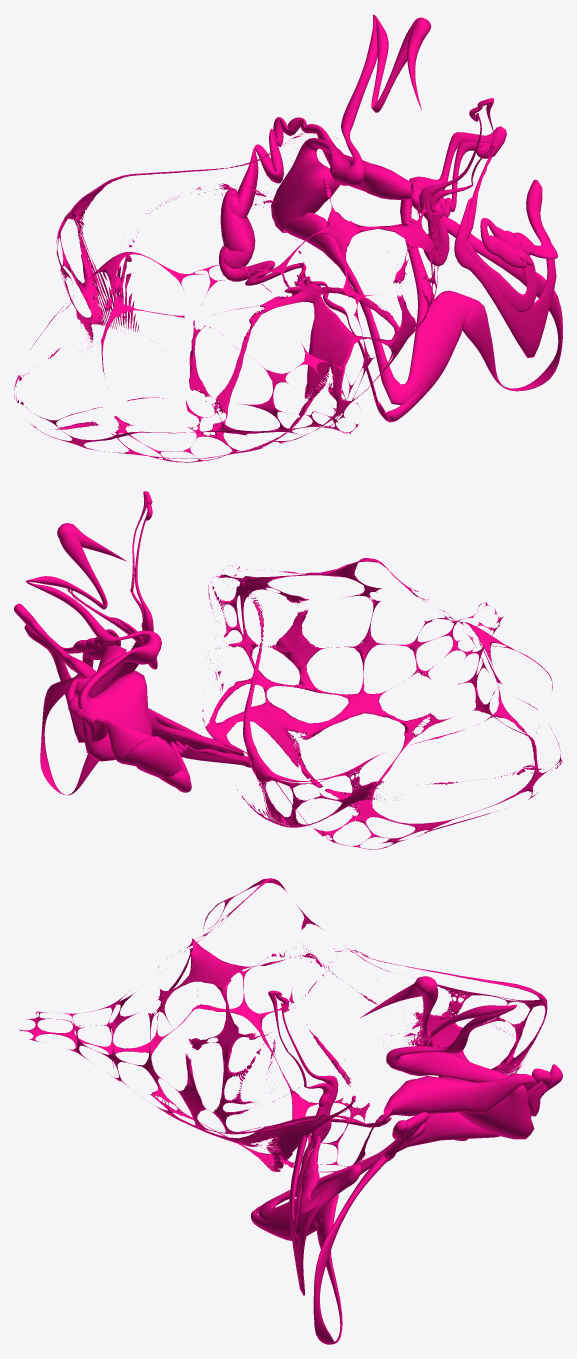
The picture shows the model from 3 angles, top to bottom: view 1: azimuth 30°, elevation 25°; view 2: azimuth 150°, elevation 25°; view 3: azimuth 270°, elevation 25°; orthographic projection. The views are drawn at different scales.
Parts seen in each view (by area): view 1: GP_Layer; view 2: GP_Layer; view 3: GP_Layer.
Part boxes in pixels (bbox=[...]): GP_Layer: bbox=[14, 14, 562, 462]; GP_Layer: bbox=[14, 491, 562, 849]; GP_Layer: bbox=[19, 878, 562, 1344].
Size of the model in its own units: 41.93 by 24.99 by 36.5.
